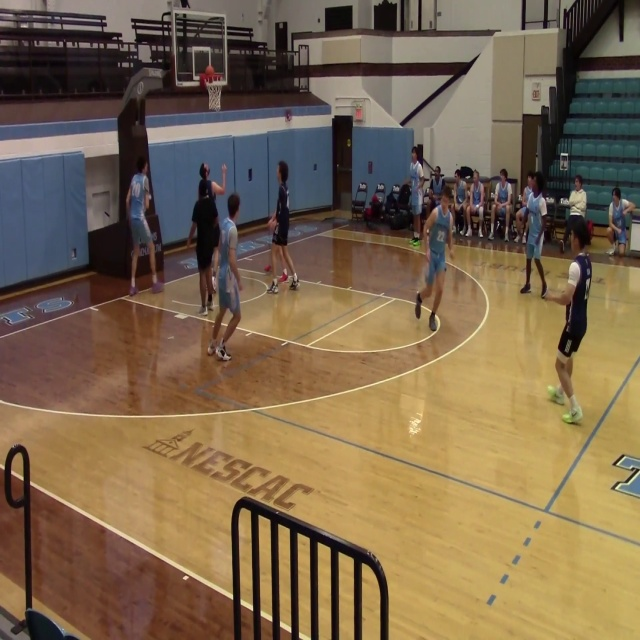Basketball: (200, 163, 209, 178), (547, 385, 556, 397), (205, 65, 214, 76)
